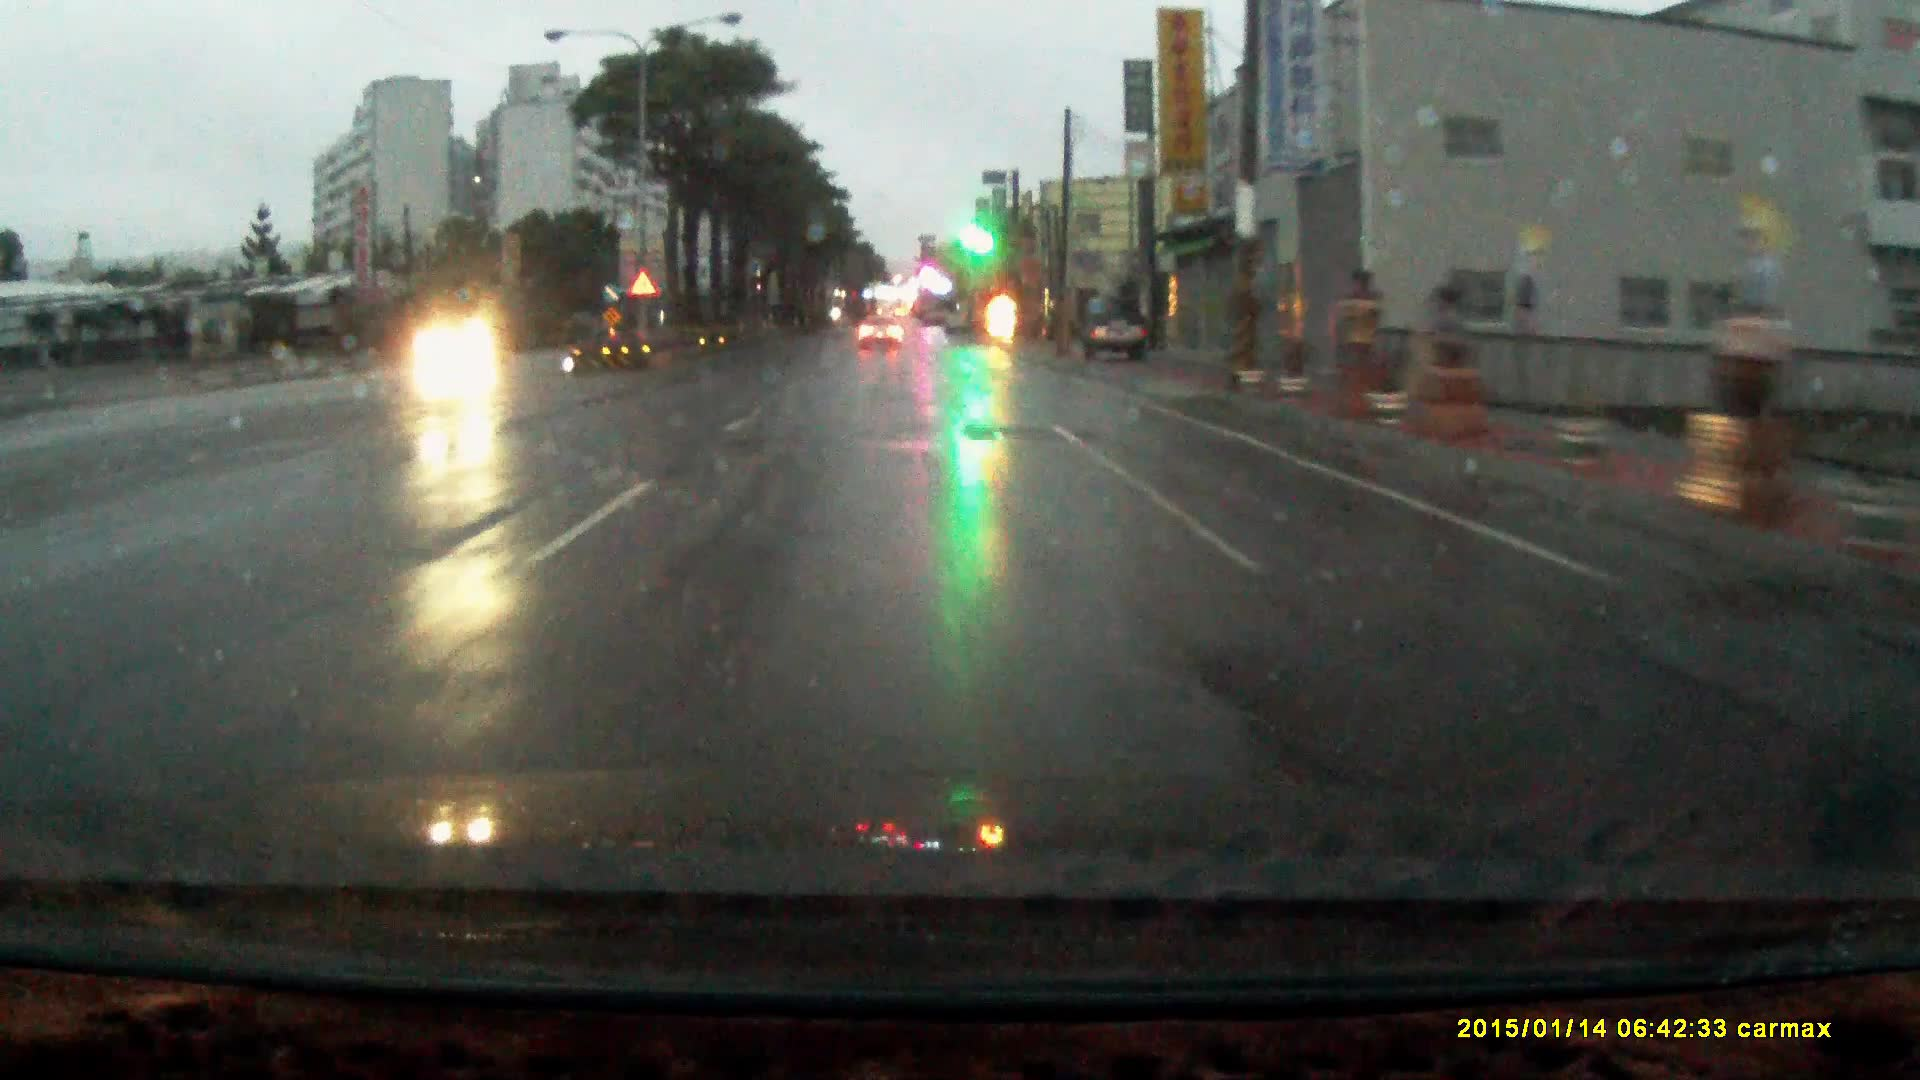vehicle: (1084, 284, 1151, 348), (858, 302, 907, 340)
